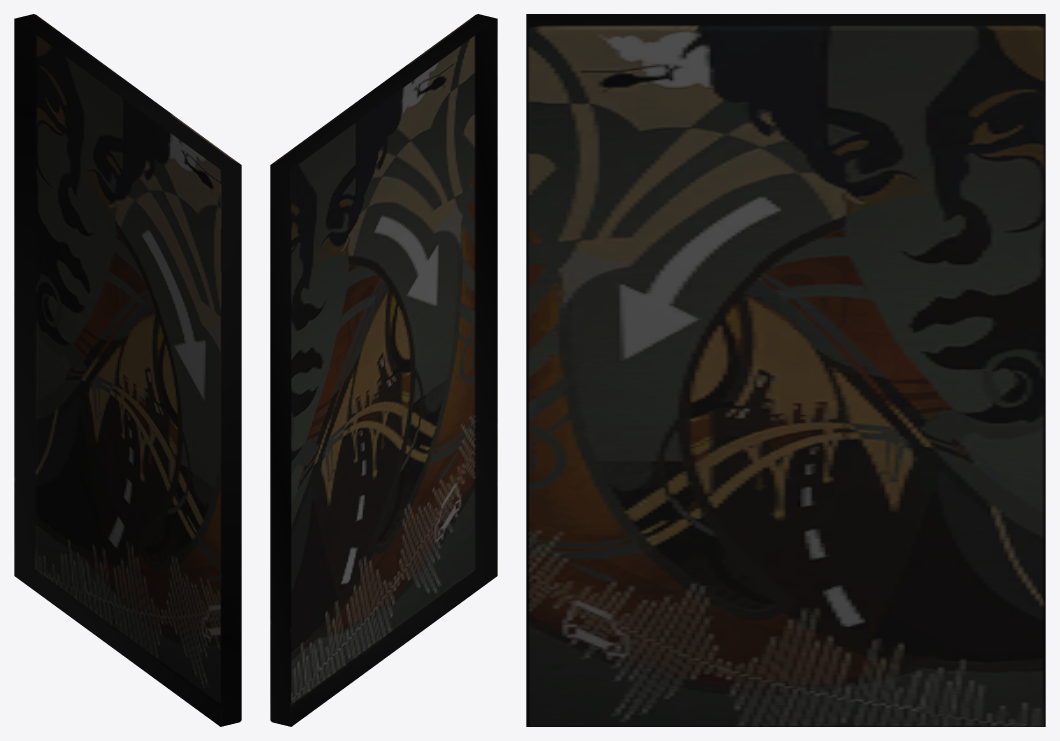
Rendered from p6_mural_paintings02_lod0.glb.
3 views of the same model, side by side, from view 1: azimuth 30°, elevation 25°; view 2: azimuth 150°, elevation 25°; view 3: azimuth 270°, elevation 25° (orthographic). The views are drawn at different scales.
Visible parts, largest first — view 1: surf0; view 2: surf0; view 3: surf0.
Boxes of the visible parts, x1,y1,x2,y2 form: surf0: (14, 14, 241, 726); surf0: (270, 14, 497, 726); surf0: (526, 14, 1045, 726).
Size of the model in its own units: 4 by 95.92 by 64.37.
